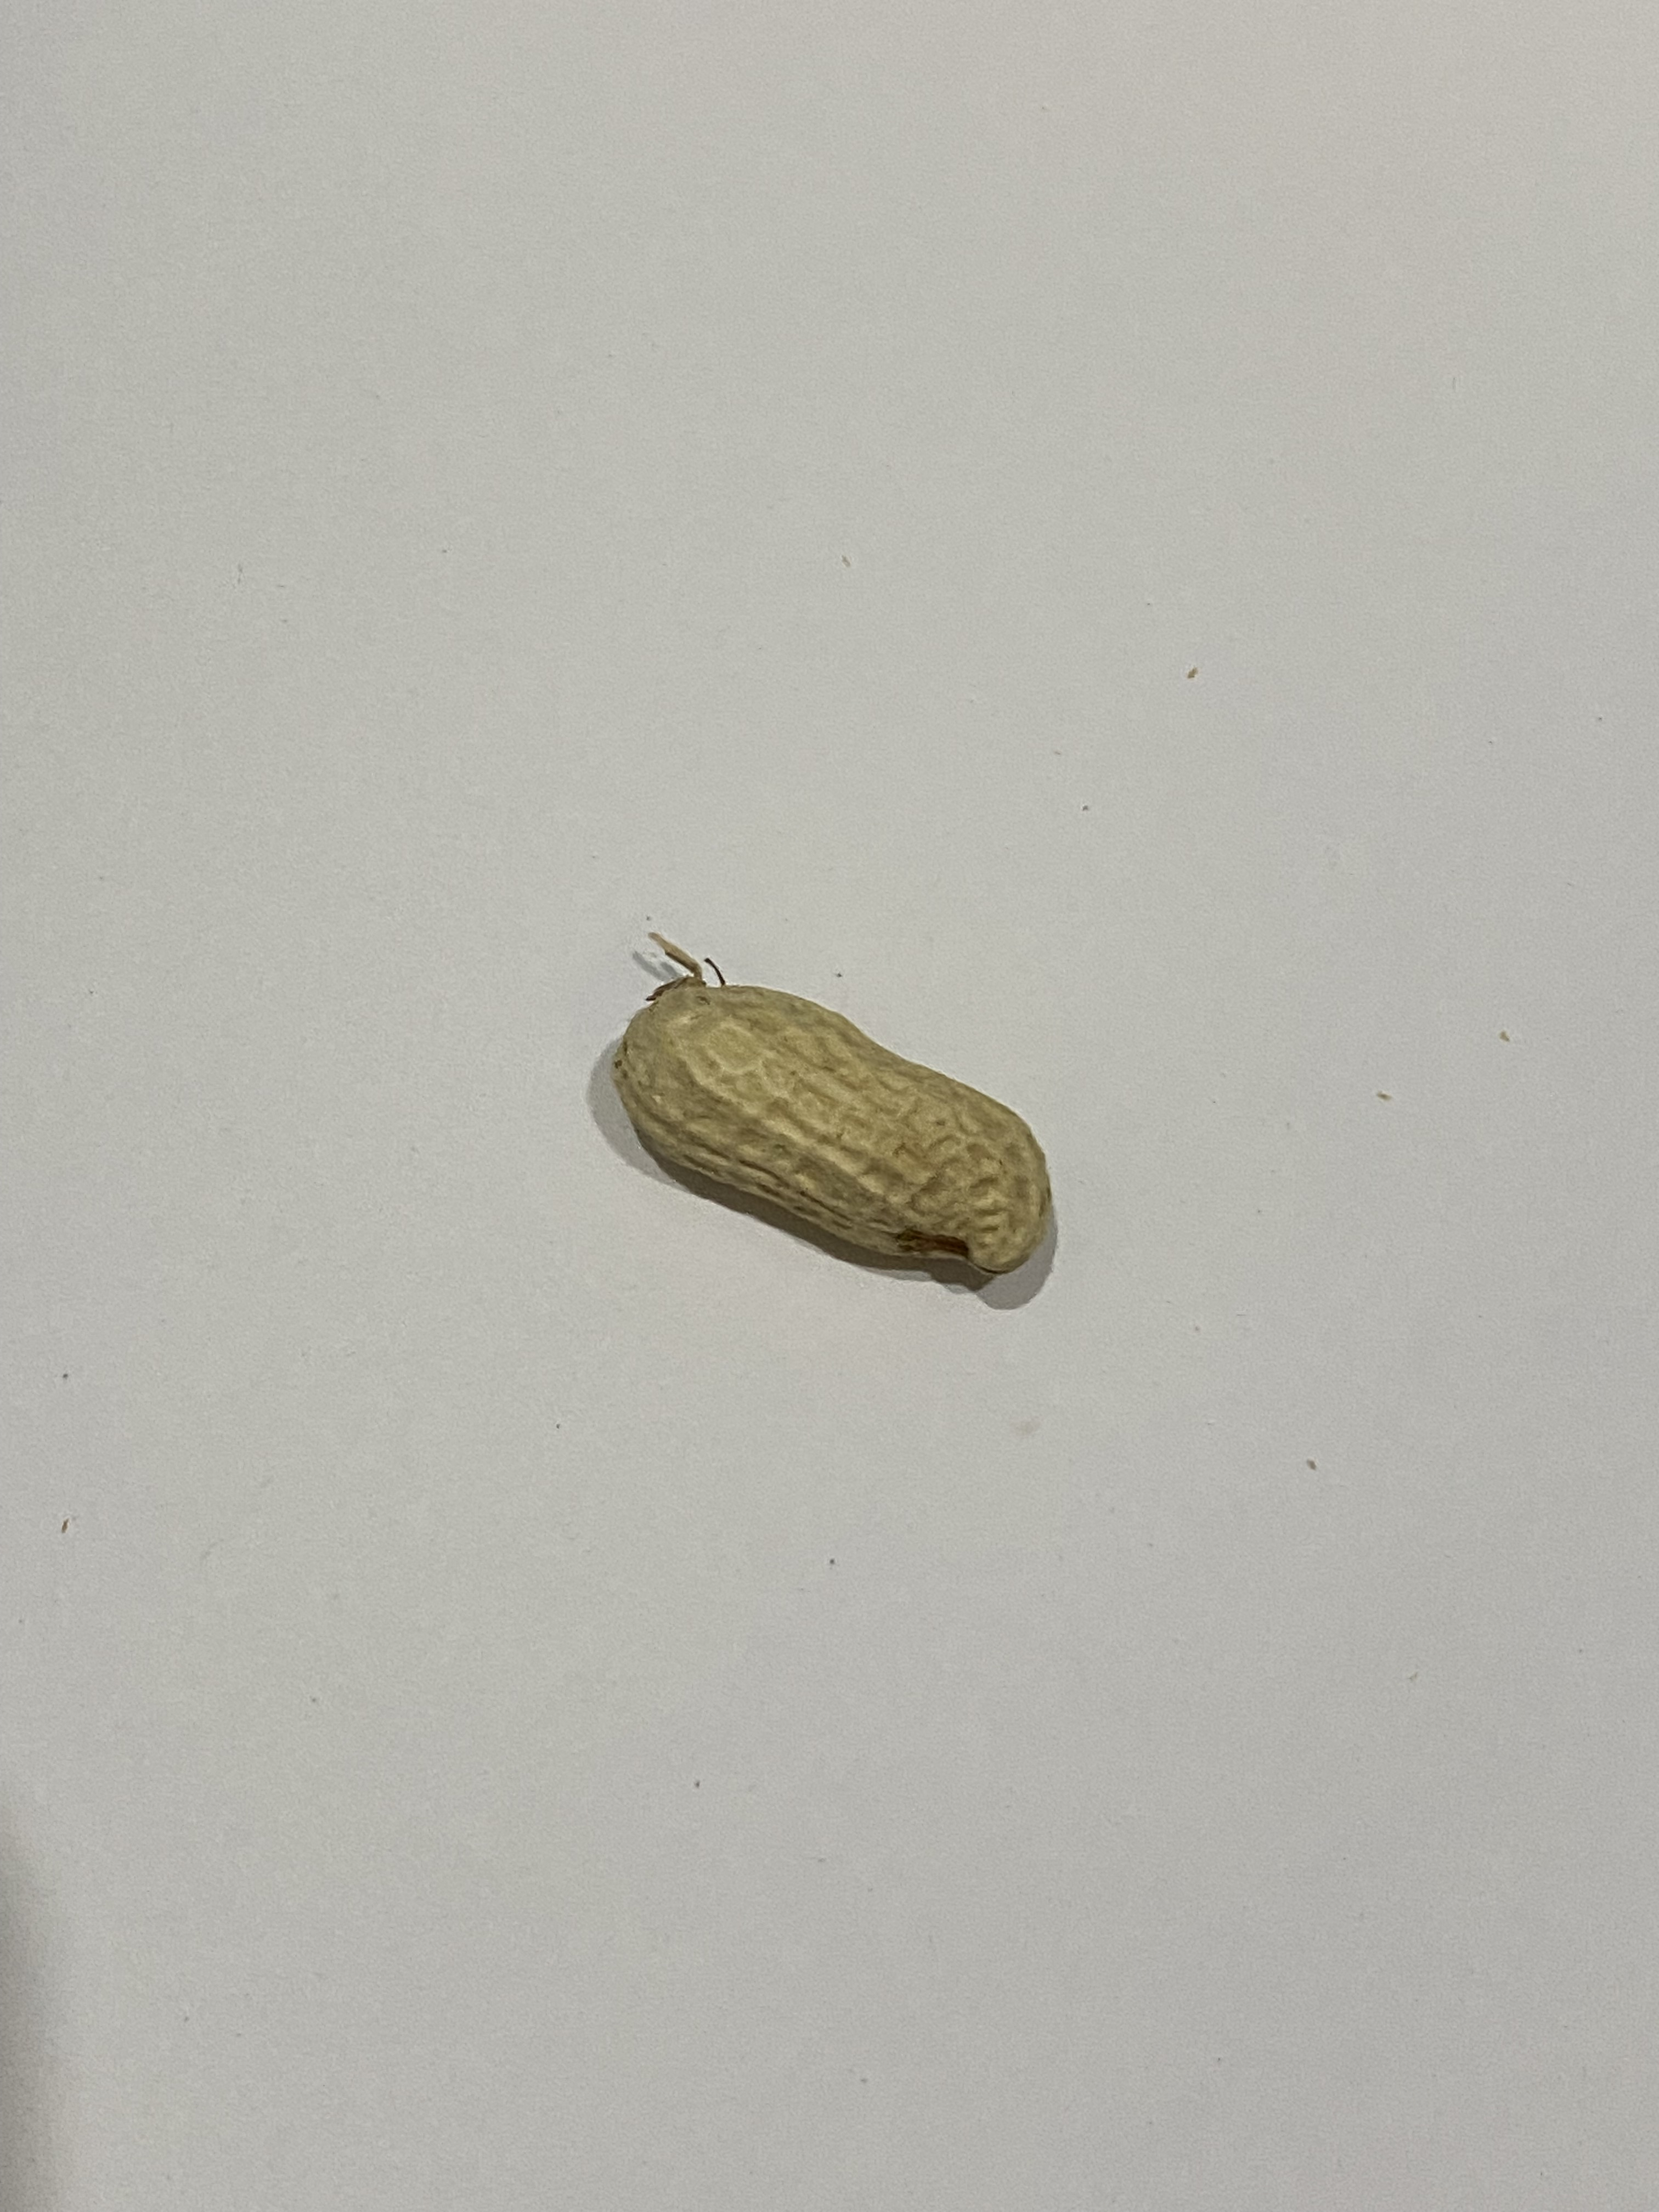kacang2: (580, 939, 1068, 1315)
